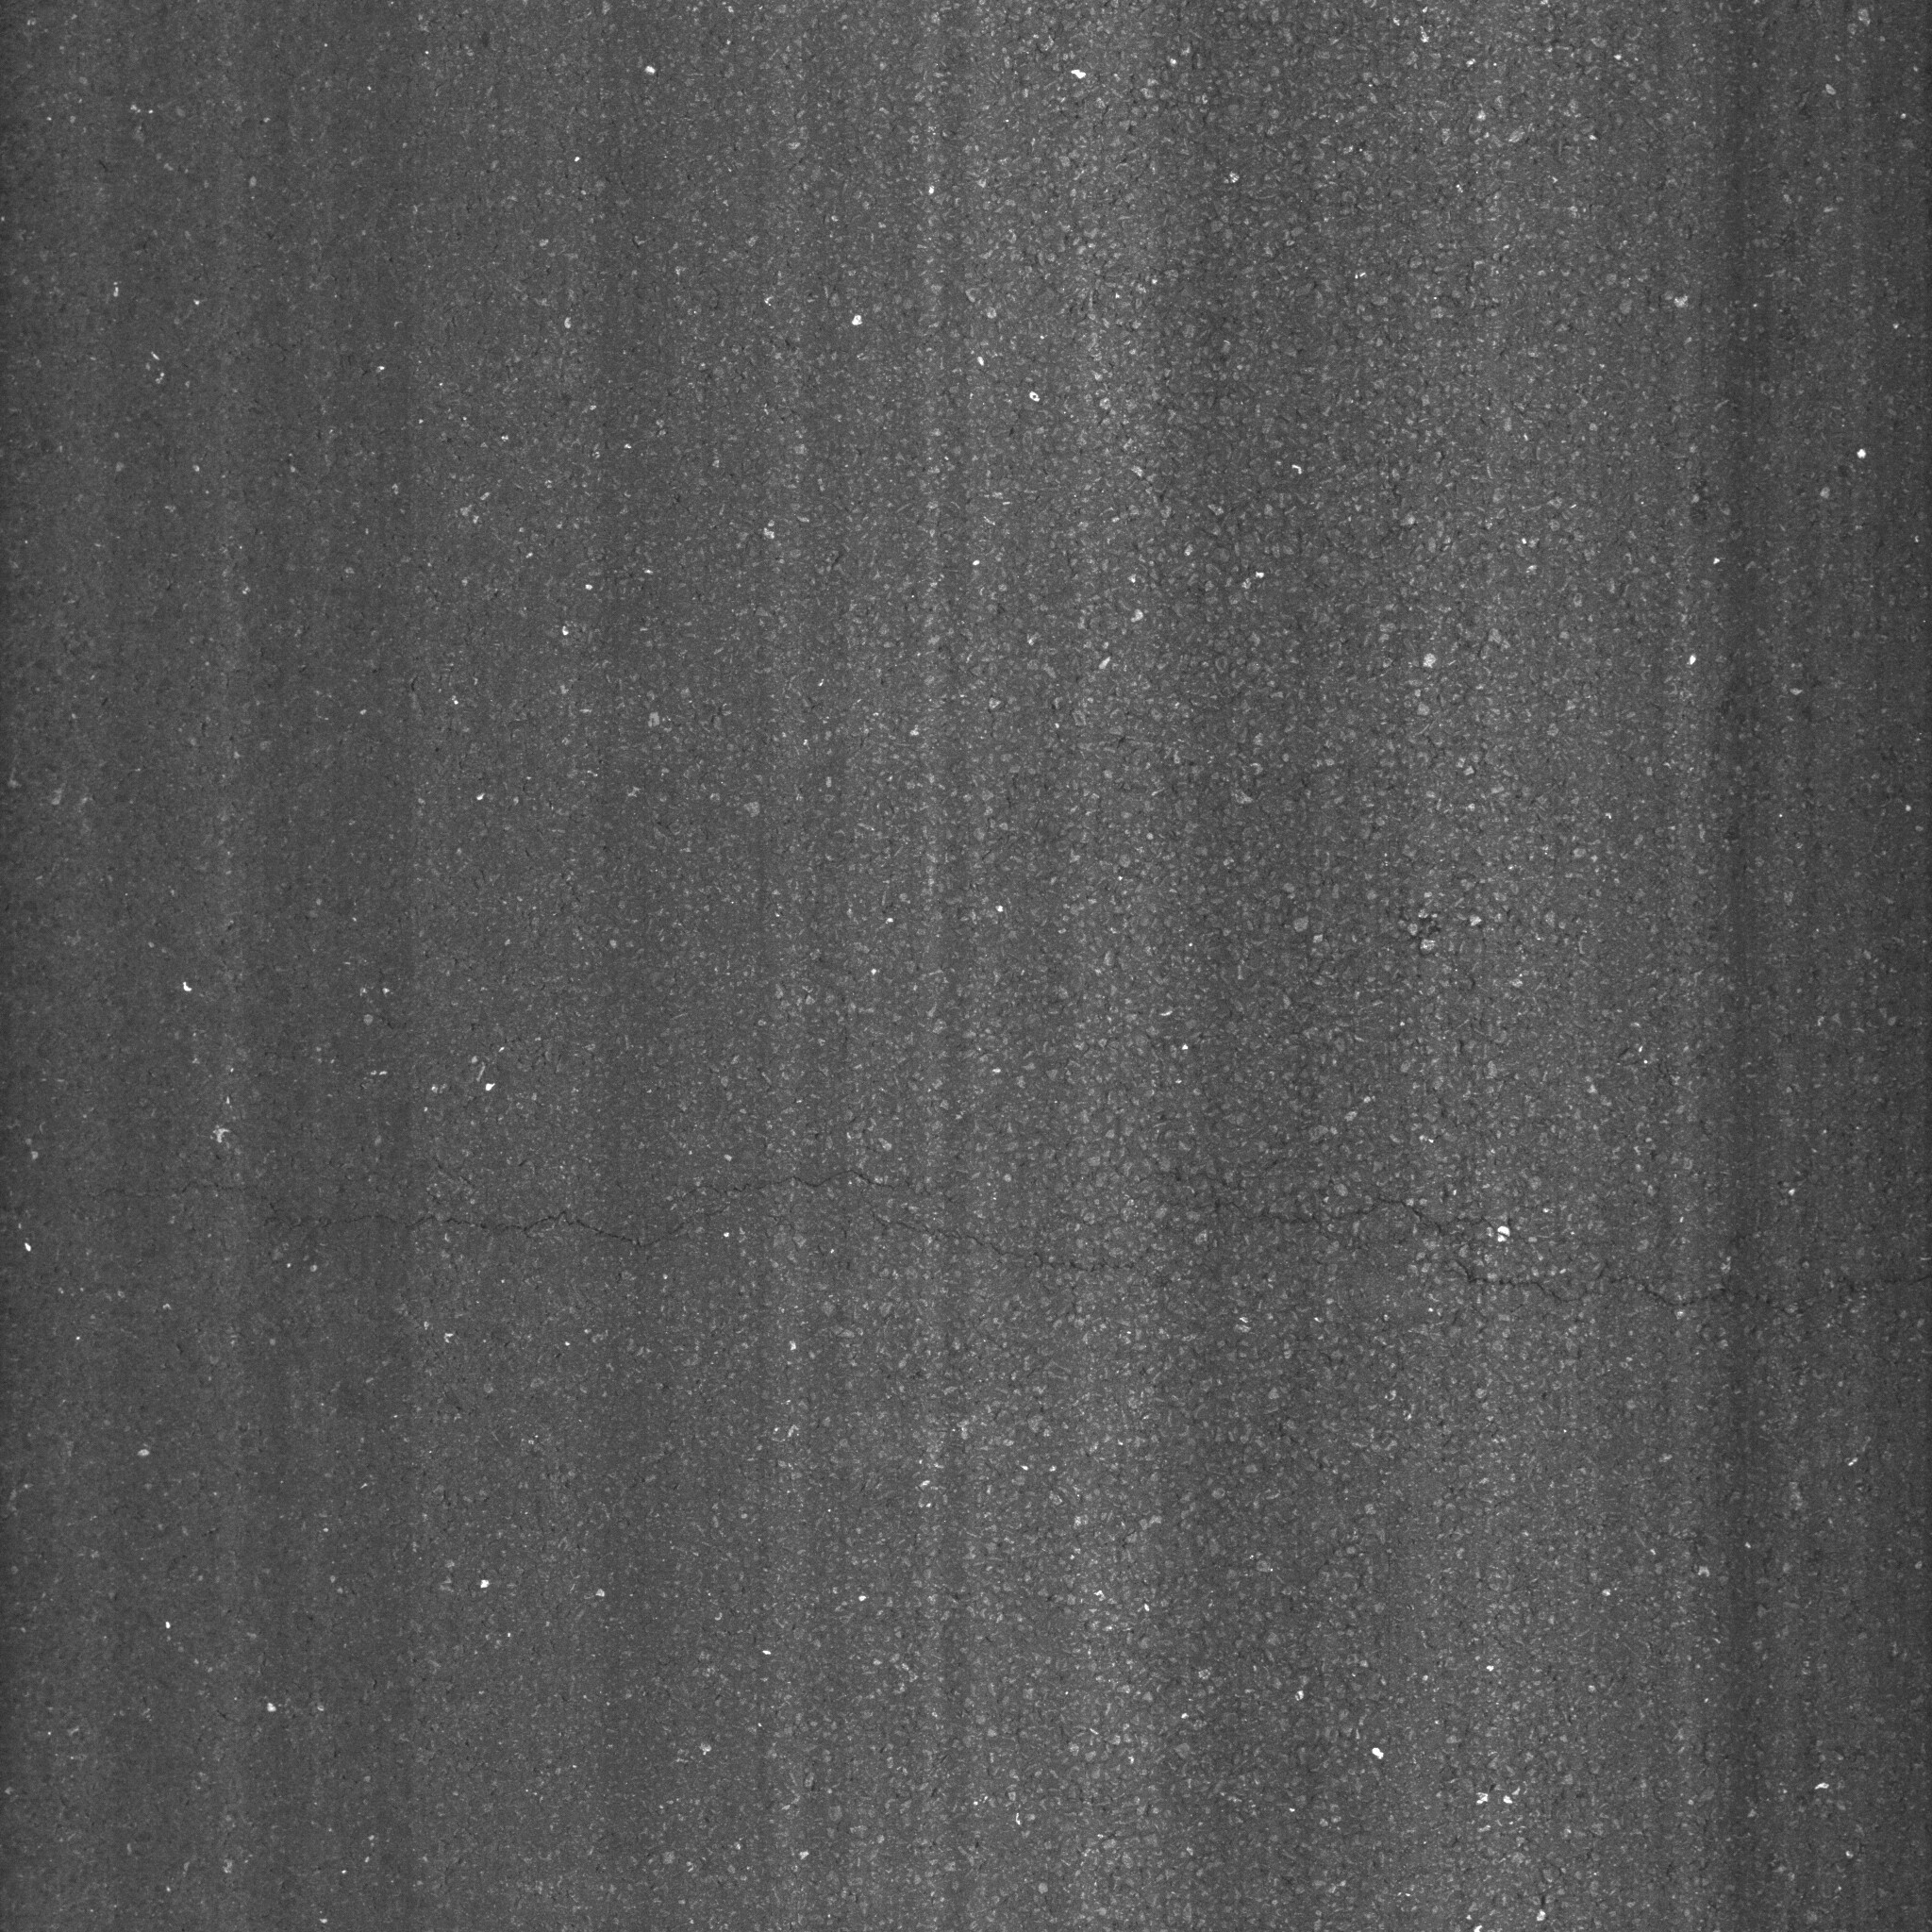transeverse: (165, 1134, 1932, 1369)
